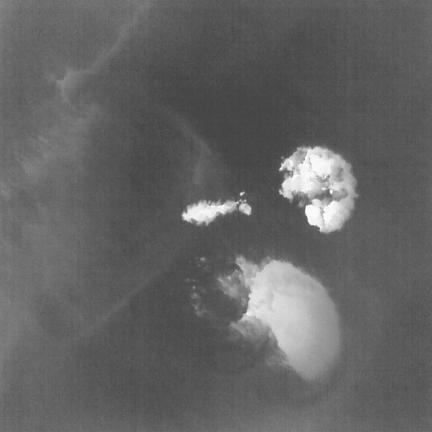flukeprints: (238, 257, 340, 380), (279, 146, 356, 233), (182, 198, 251, 225)
